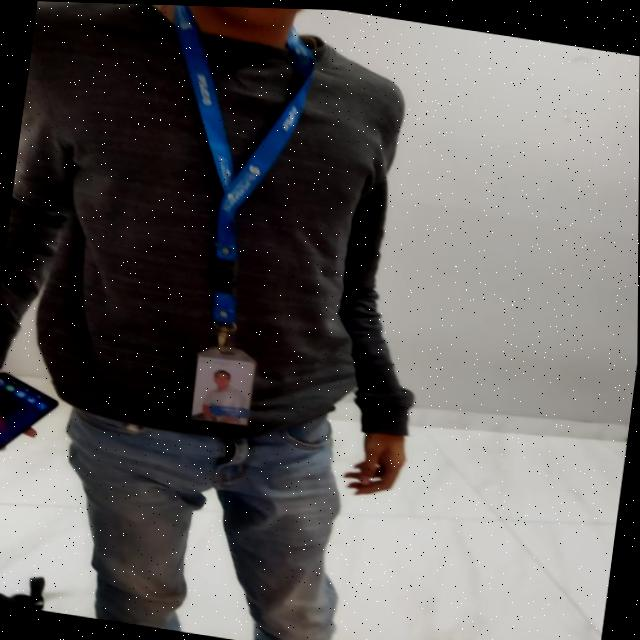id_card: (116, 3, 343, 436)
